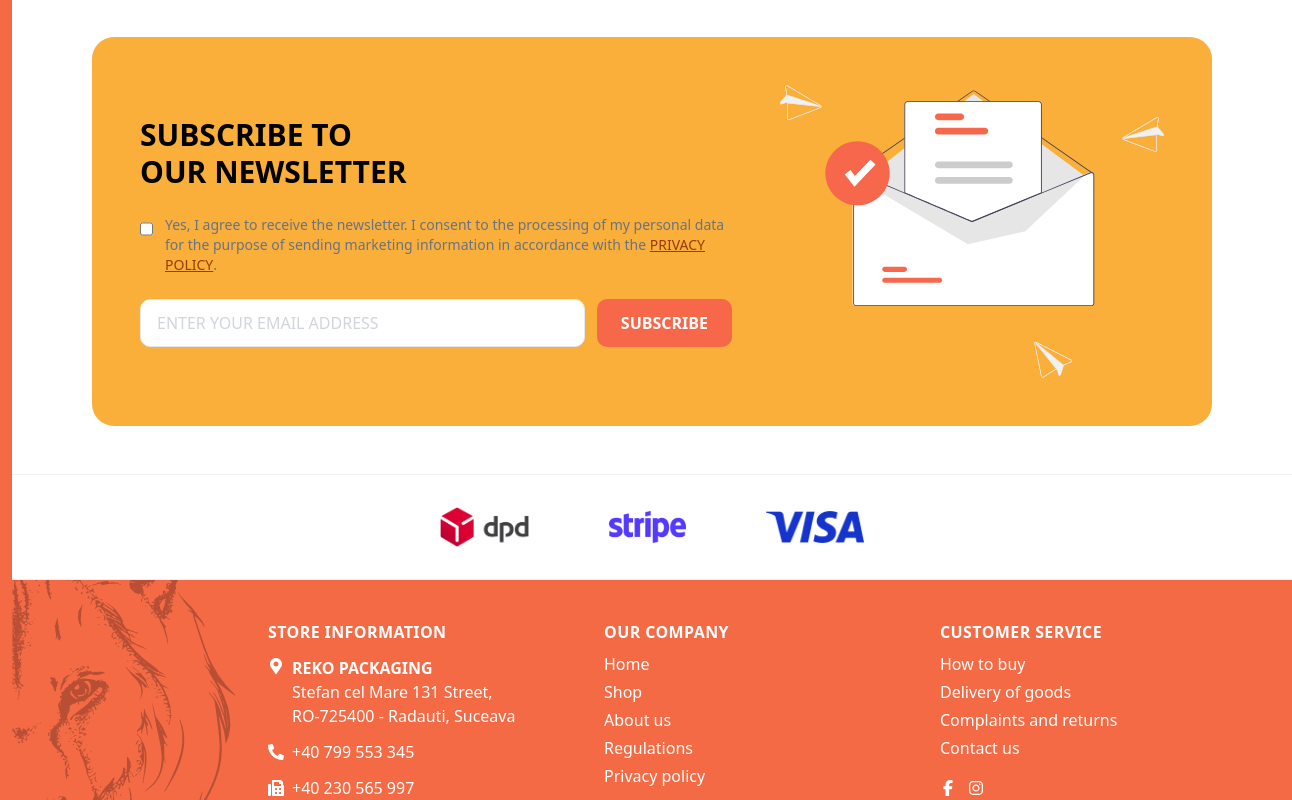
Test: Home page – newsletter › trimite subscribe cu email valid (mock API)
(page scrolled)
In the field with placeholder "ENTER YOUR EMAIL ADDRESS": (363,323) [140,299,585,347], type "newsletter-test@example.com"
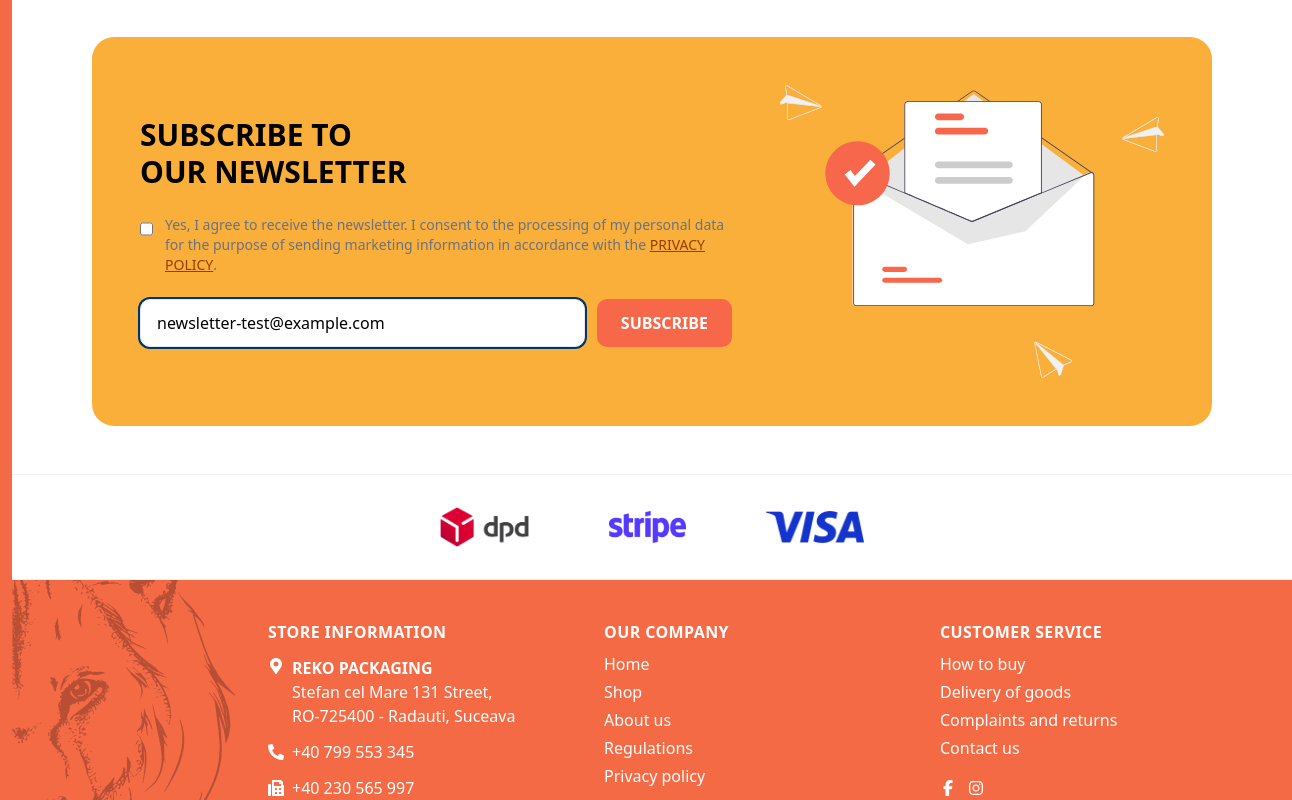
Check the checkbox: (147,229) [140,219,153,239]
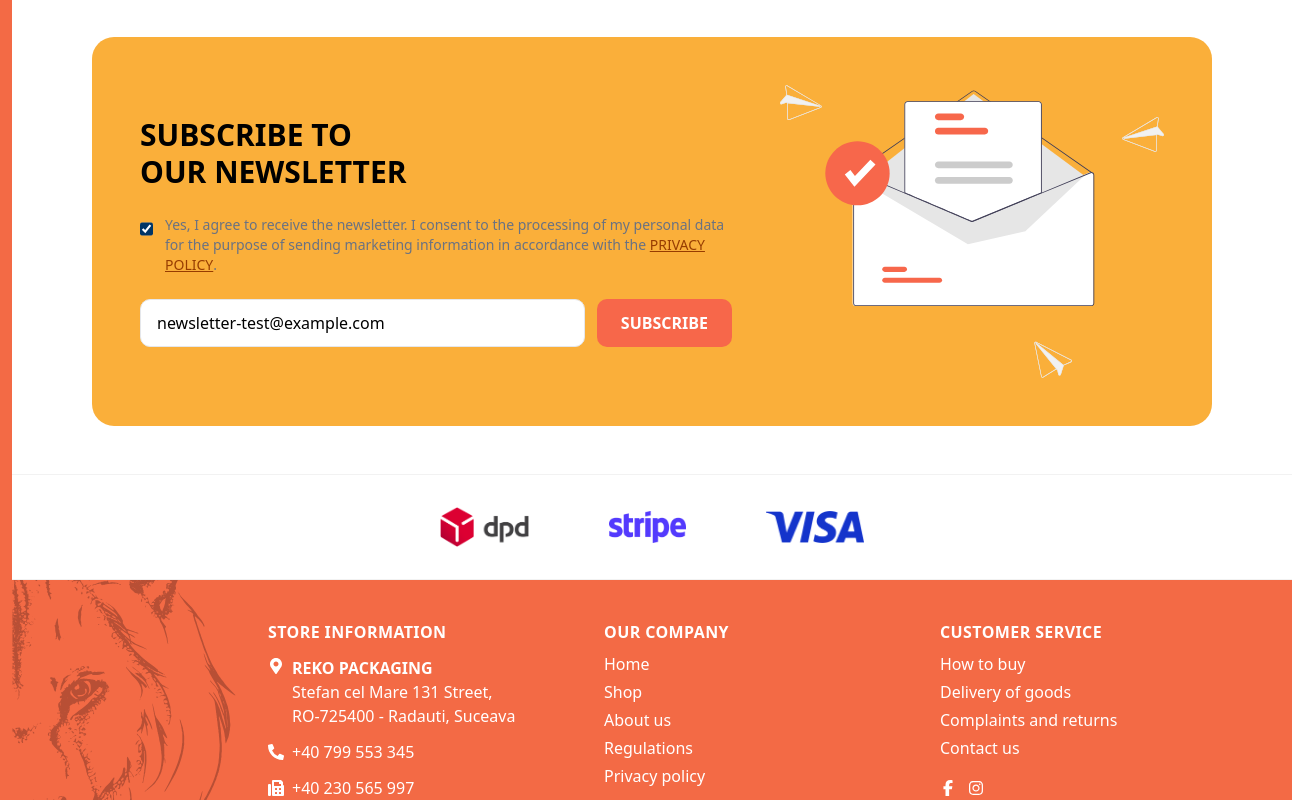
Click the button "SUBSCRIBE": (665,323) [597,299,732,347]
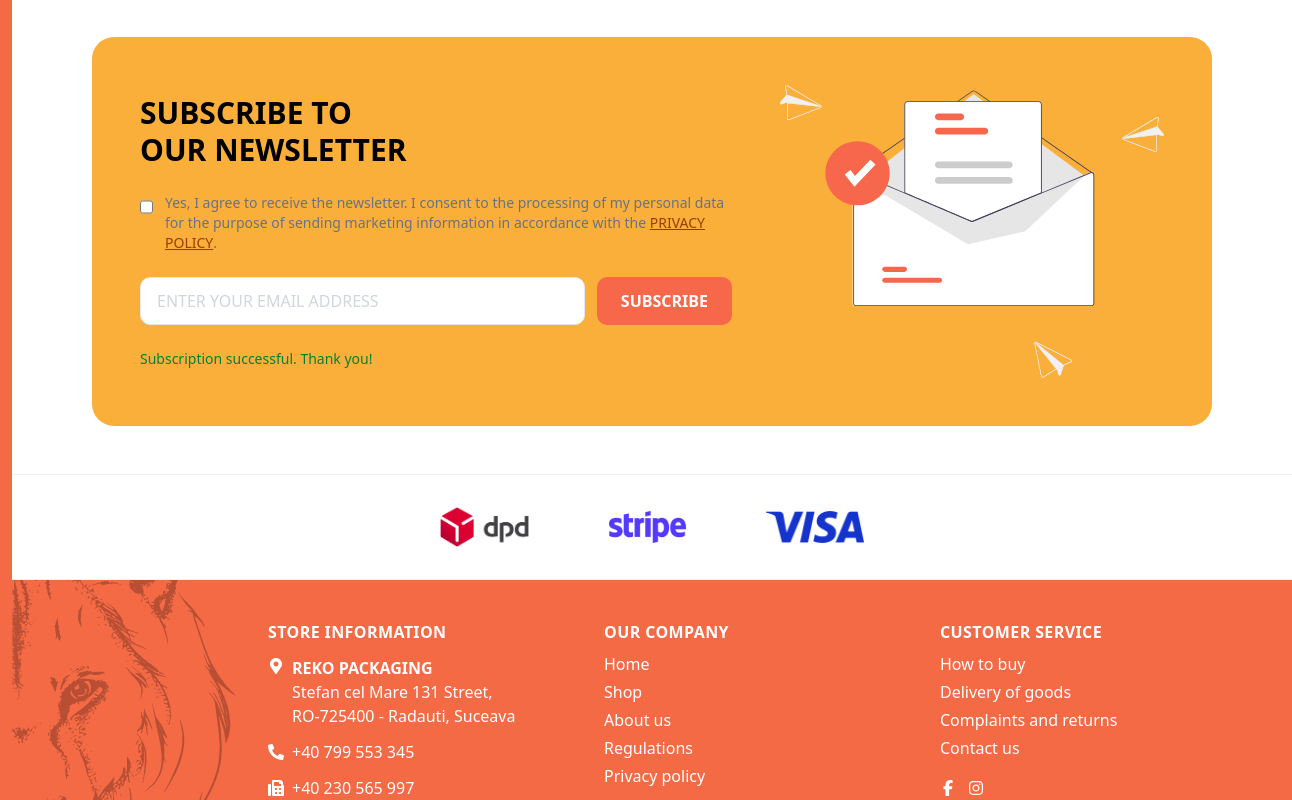
Expected: the text "Subscription successful. Thank you!" is shown, [140,349,372,368]
